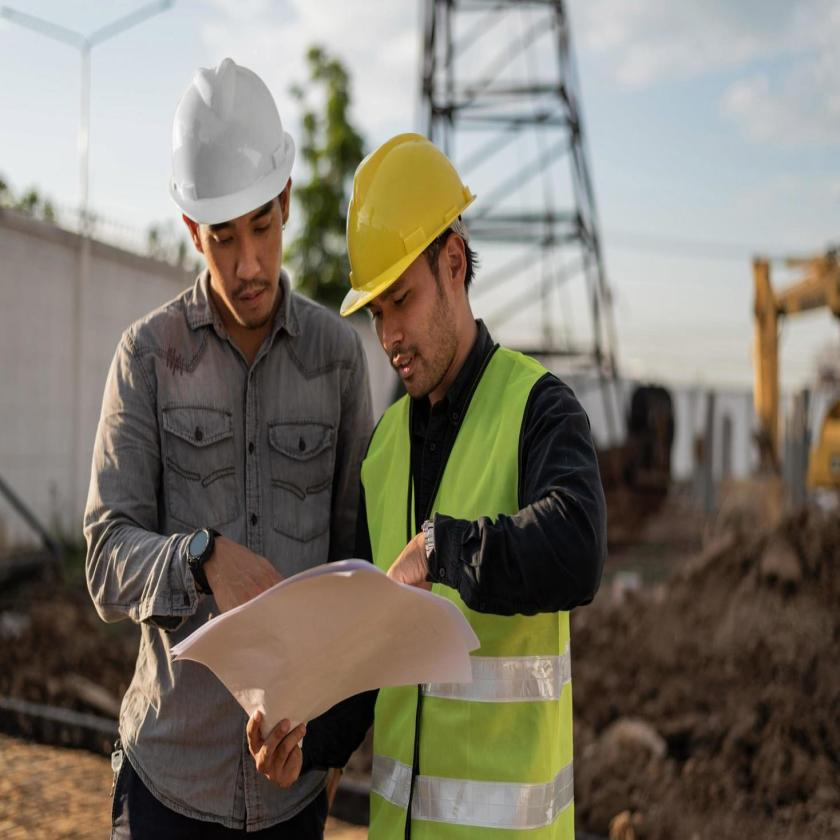Con_casco: (155, 54, 300, 349), (332, 131, 481, 411)
